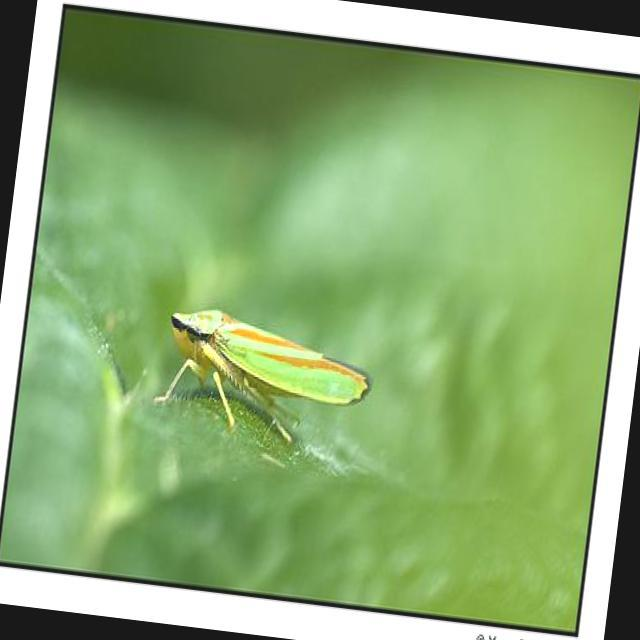green leaf hopper: (155, 310, 367, 442)
